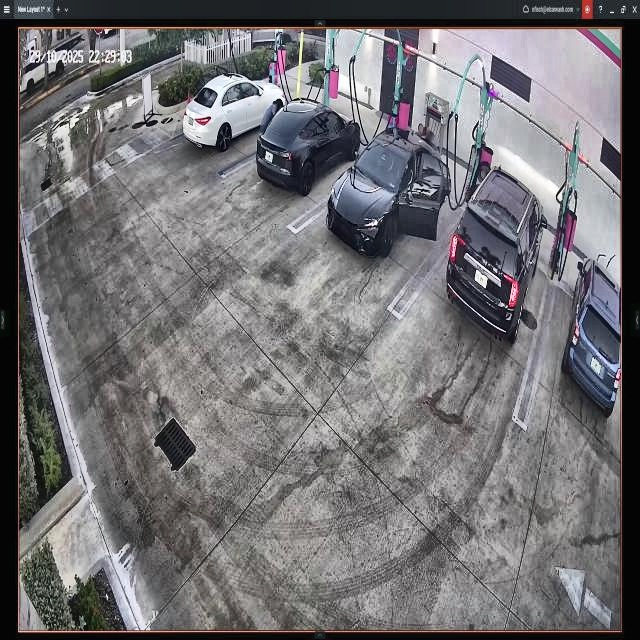Car: (447, 168, 547, 344), (327, 130, 451, 259), (257, 99, 362, 192), (184, 76, 286, 148)
